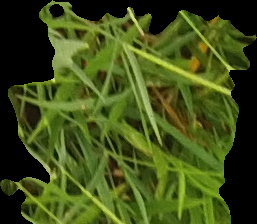grass: (1, 1, 256, 223)
